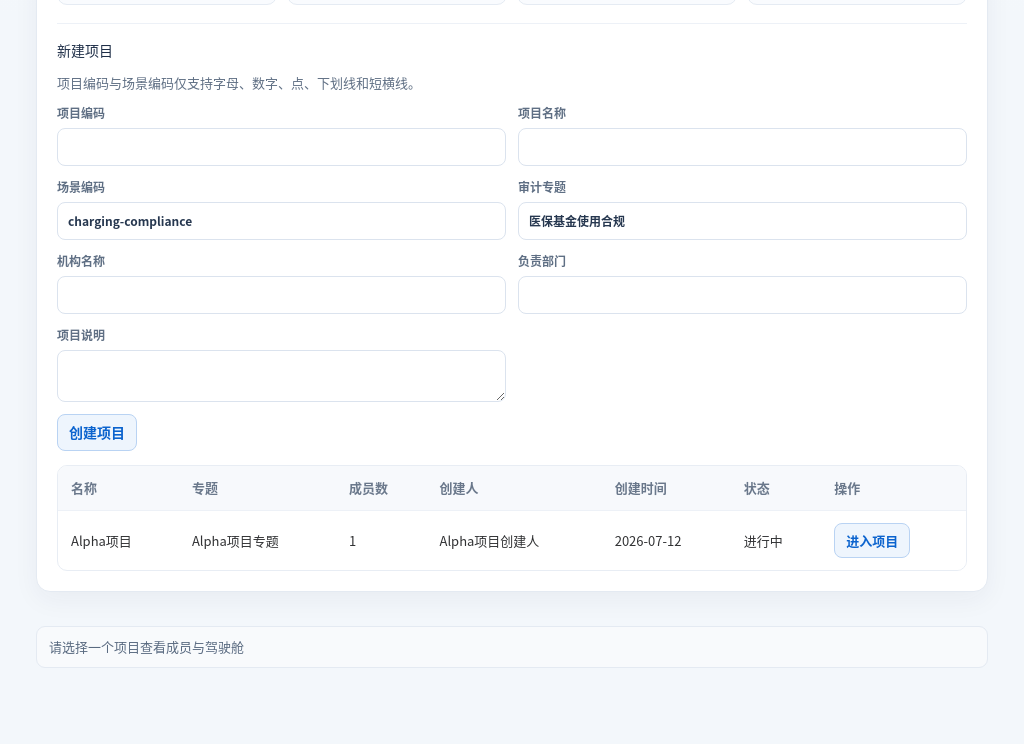
ReplicaProjectWorkbench › loads members and dashboard only after an explicit project selection
(page scrolled)
Click the button with aria-label "查看：Alpha项目": (872, 541) [834,523,910,558]
(page scrolled)
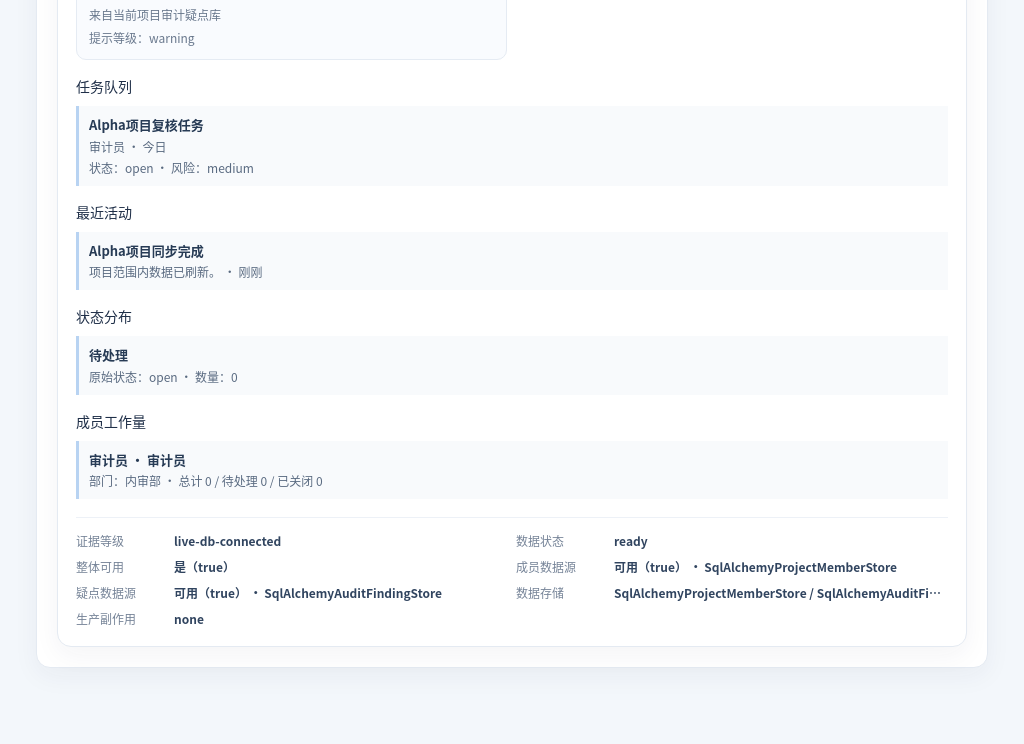
Expected: the text "Alpha项目复核任务" is shown, [89,115,204,134]
Expected: the text "Alpha项目同步完成" is shown, [89,241,204,260]
Expected: the text "live-db-connected" is shown, [174,532,281,549]
